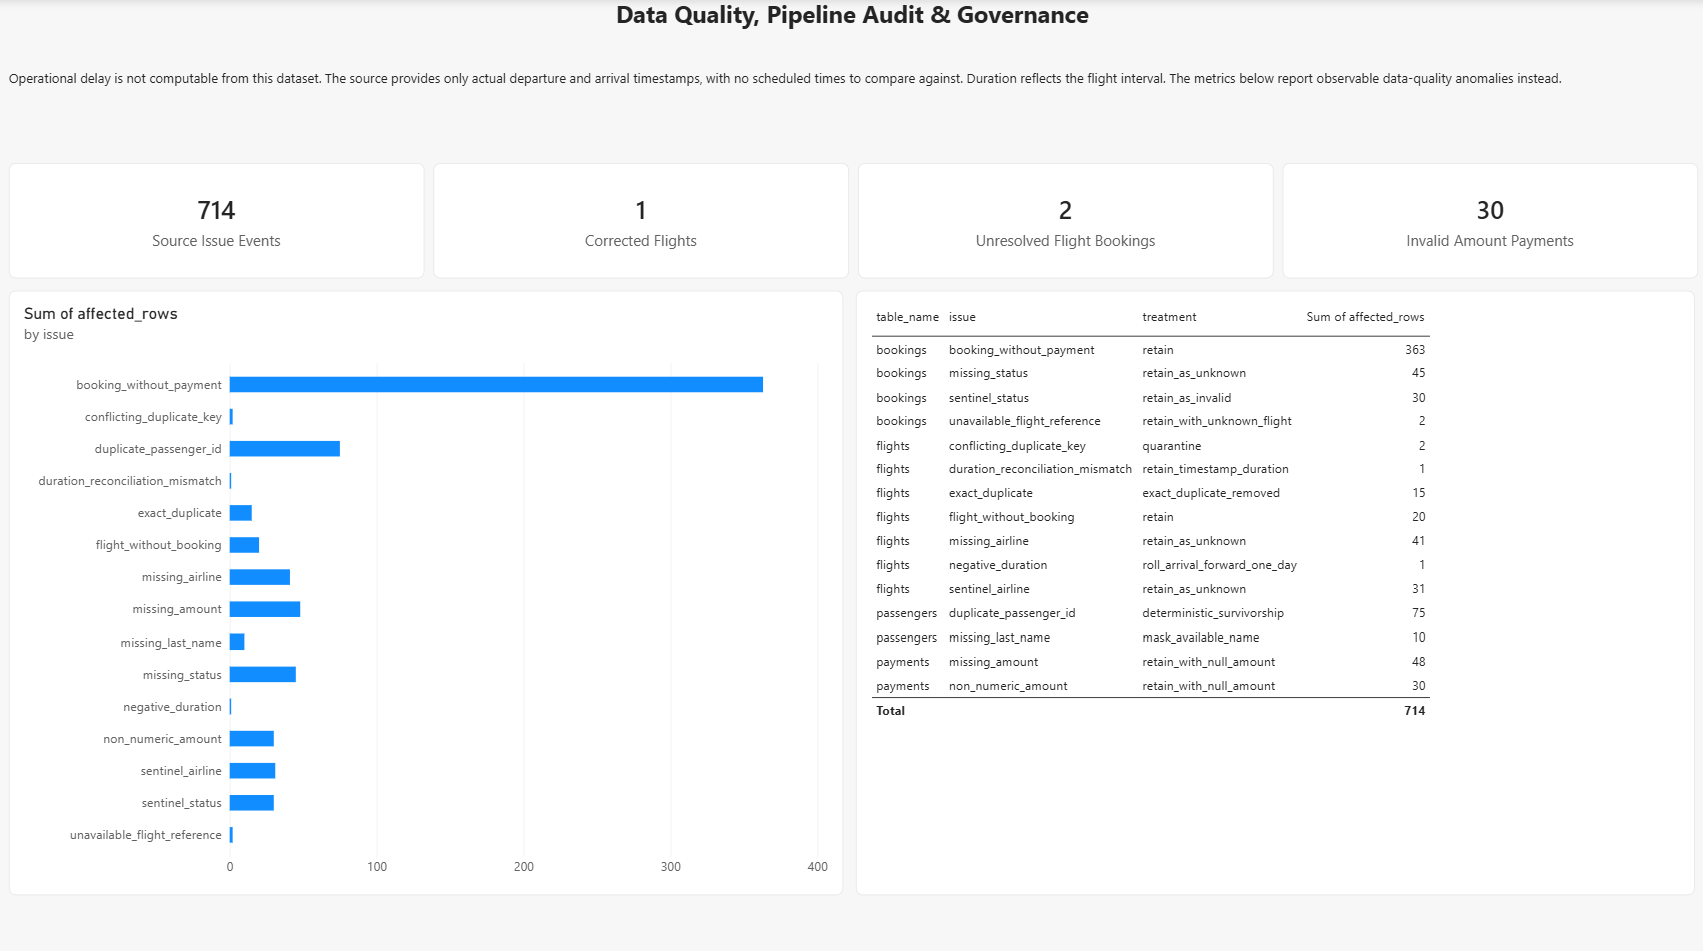

The page's visual inventory and layout, read from the dashboard file:
{"tool":"powerbi","page":{"name":"Data Quality & Anomalies","canvas":[1920,1080],"ordinal":3},"visuals":[{"type":"textbox","box":[10,0,1900,70],"z":0},{"type":"textbox","box":[10,80,1900,95],"z":0},{"type":"card","fields":{"Values":["_Measures.Source Issue Events"]},"box":[10,185,468,130],"z":100},{"type":"card","fields":{"Values":["_Measures.Corrected Flights"]},"box":[488,185,468,130],"z":101},{"type":"card","fields":{"Values":["_Measures.Unresolved Flight Bookings"]},"box":[966,185,468,130],"z":102},{"type":"card","fields":{"Values":["_Measures.Invalid Amount Payments"]},"box":[1444,185,468,130],"z":103},{"type":"clusteredBarChart","fields":{"Category":["dq_issue_summary.issue"],"Y":["Sum(dq_issue_summary.affected_rows)"]},"box":[10,330,940,680],"z":200},{"type":"tableEx","fields":{"Values":["dq_issue_summary.table_name","dq_issue_summary.issue","dq_issue_summary.treatment","Sum(dq_issue_summary.affected_rows)"]},"box":[965,330,945,680],"z":210}]}

Visuals, with their boxes in screenshot pixels (x1, y1, x2, y2), scaled from the page's 1920x1080 canvas onto the 1703x951 screenshot:
textbox: locate(9, 0, 1694, 62)
textbox: locate(9, 70, 1694, 154)
card - _Measures.Source Issue Events: locate(9, 163, 424, 277)
card - _Measures.Corrected Flights: locate(433, 163, 848, 277)
card - _Measures.Unresolved Flight Bookings: locate(857, 163, 1272, 277)
card - _Measures.Invalid Amount Payments: locate(1281, 163, 1696, 277)
clusteredBarChart - dq_issue_summary.issue x Sum(dq_issue_summary.affected_rows): locate(9, 291, 843, 889)
tableEx - dq_issue_summary.table_name x dq_issue_summary.issue: locate(856, 291, 1694, 889)
